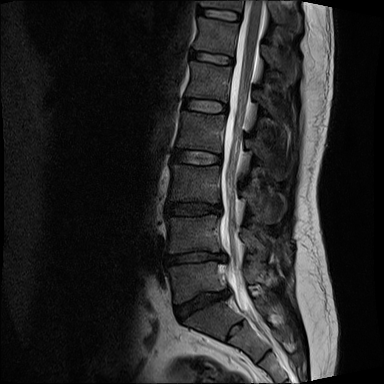Lumbar Disc Bulge (LDB): (167, 277, 237, 327), (159, 239, 229, 271), (161, 192, 229, 223)
Normal IVD: (162, 143, 223, 172), (176, 91, 231, 121), (179, 45, 241, 69), (191, 4, 245, 24)
Spinal Stenosis (SS): (203, 238, 237, 271), (204, 192, 236, 225), (208, 277, 239, 310)
